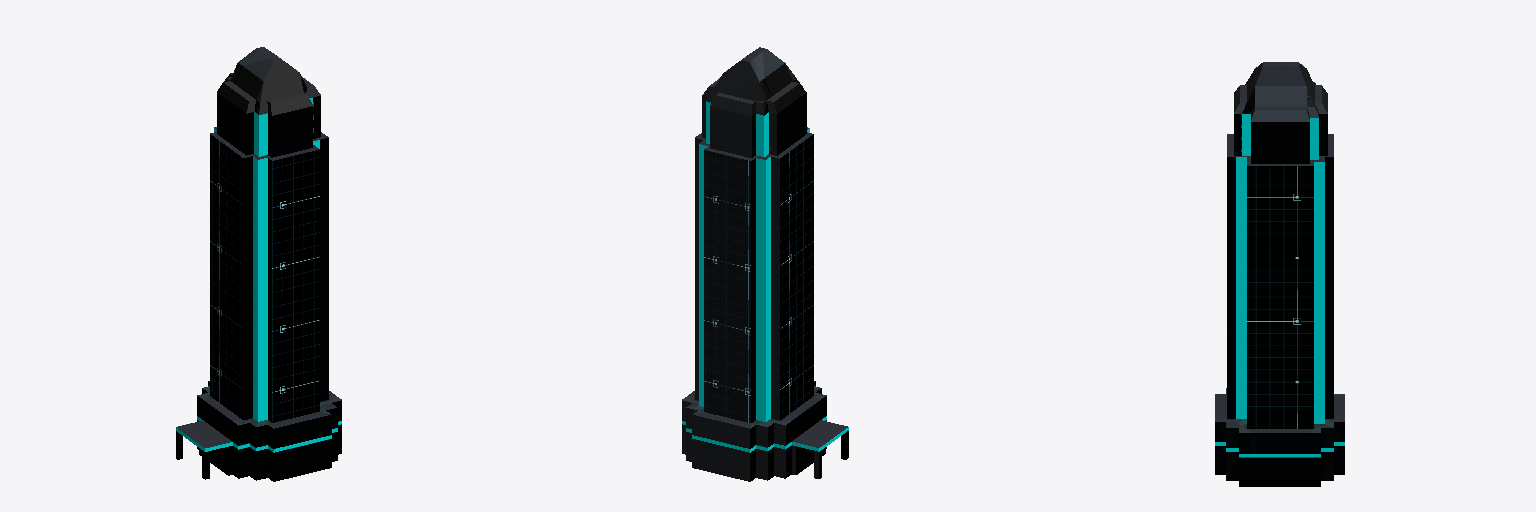
The picture shows the model from 3 angles: view 1: azimuth 30°, elevation 25°; view 2: azimuth 150°, elevation 25°; view 3: azimuth 270°, elevation 25°; orthographic projection.
Parts seen in each view (by area): view 1: Cube.005; view 2: Cube.005; view 3: Cube.005.
Part boxes in pixels (x1,y1,x2,y2): Cube.005: (176, 47, 341, 481); Cube.005: (682, 47, 848, 481); Cube.005: (1215, 62, 1344, 486).
Bounding box in the file's own units: 1.06 × 3.05 × 0.9109.
Materials: 3 (1 with a texture image).